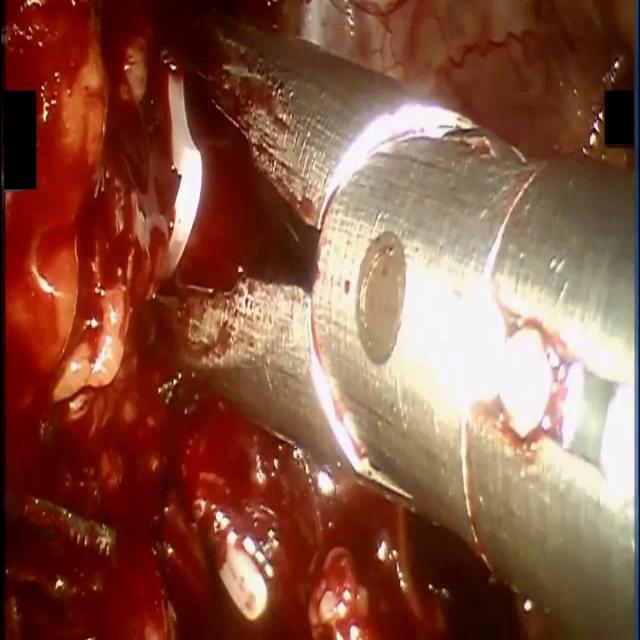surgical-area: (0, 2, 566, 639), (183, 0, 636, 172)
surgical-tool: (127, 3, 640, 639)
